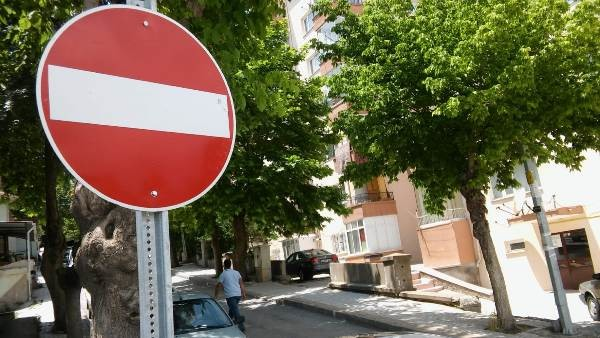Girilmez: (33, 5, 244, 211)
yaya: (208, 243, 263, 337)
